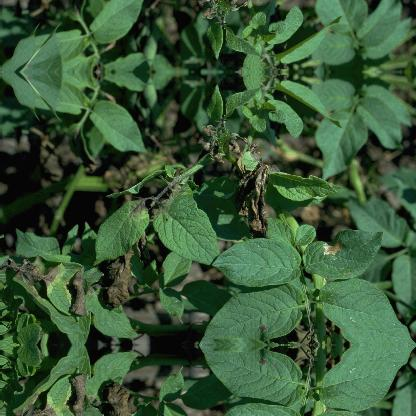Late-Blight: (172, 120, 290, 230), (4, 245, 92, 329), (154, 187, 220, 271), (4, 359, 92, 416), (91, 188, 148, 260), (304, 224, 384, 270), (101, 262, 138, 322), (101, 365, 138, 416)
